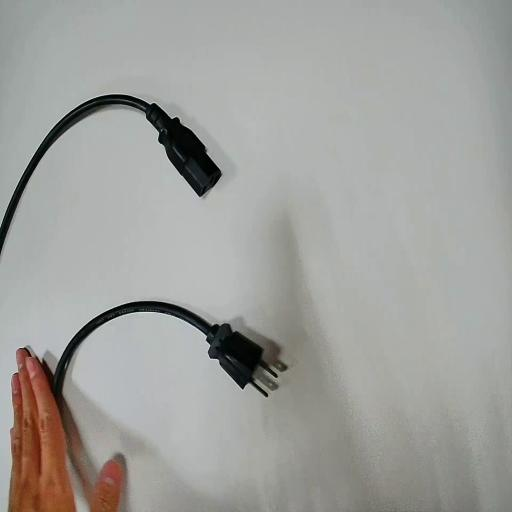wire: (0, 95, 220, 248), (39, 302, 276, 427)
